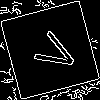V: (25, 25, 81, 77)
